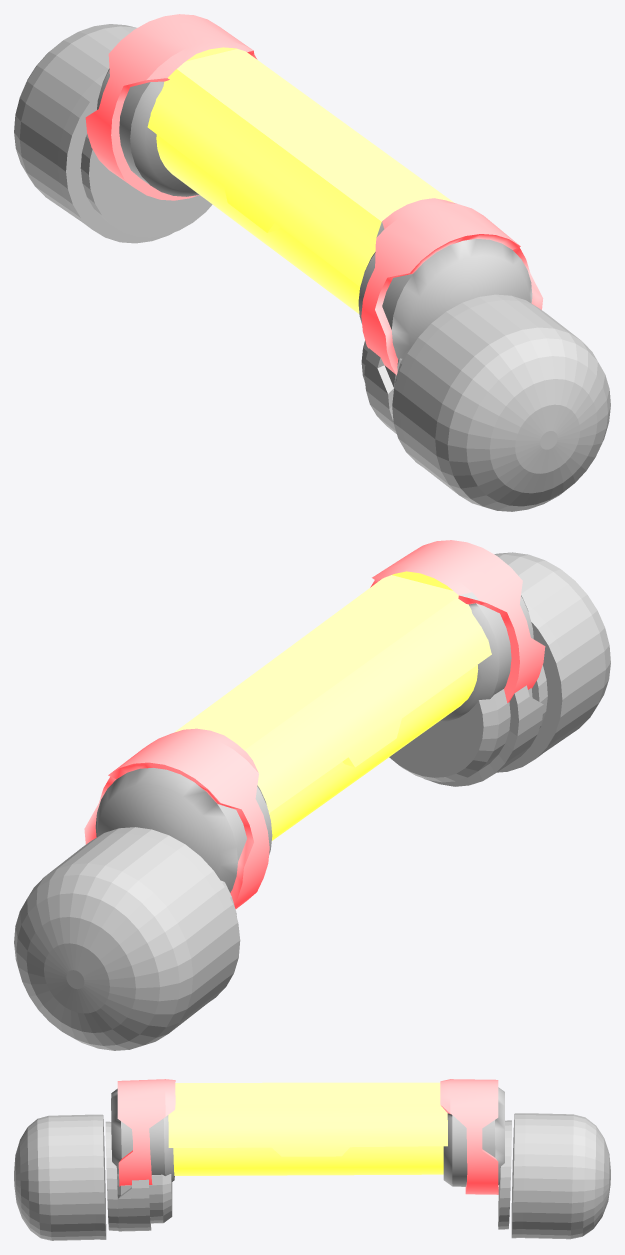
The model's file is colored-paddle.glb.
The picture shows the model from 3 angles, top to bottom: view 1: azimuth 30°, elevation 25°; view 2: azimuth 150°, elevation 25°; view 3: azimuth 270°, elevation 25°; orthographic projection. The views are drawn at different scales.
Parts seen in each view (by area): view 1: Cylinder, Cylinder.010, Cylinder.001, Cylinder.003, Cylinder.005; view 2: Cylinder, Cylinder.001, Cylinder.010, Cylinder.005; view 3: Cylinder, Cylinder.001, Cylinder.010, Cylinder.005, Cylinder.003, Cylinder.011.
Part boxes in pixels (bbox=[...]): Cylinder: bbox=[85, 14, 543, 375]; Cylinder.010: bbox=[392, 294, 610, 511]; Cylinder.001: bbox=[14, 24, 173, 243]; Cylinder.003: bbox=[80, 134, 212, 237]; Cylinder.005: bbox=[361, 340, 401, 433]; Cylinder: bbox=[84, 540, 545, 908]; Cylinder.001: bbox=[14, 827, 240, 1050]; Cylinder.010: bbox=[494, 552, 610, 772]; Cylinder.005: bbox=[389, 685, 543, 786]; Cylinder: bbox=[111, 1079, 504, 1194]; Cylinder.001: bbox=[511, 1113, 610, 1239]; Cylinder.010: bbox=[14, 1114, 106, 1240]; Cylinder.005: bbox=[117, 1174, 172, 1231]; Cylinder.003: bbox=[498, 1120, 511, 1229]; Cylinder.011: bbox=[105, 1121, 118, 1230].
Size of what is drawn, in the model's own units: 2.87 by 3.7 by 13.32.
